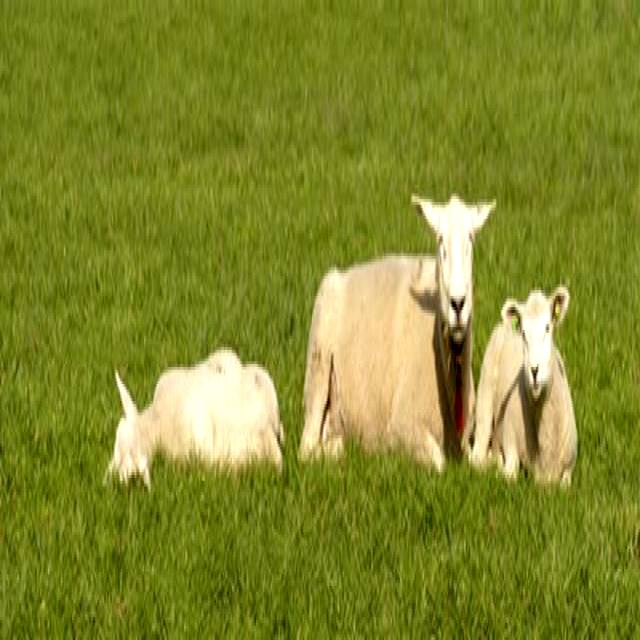sheep: (301, 192, 494, 475), (106, 349, 288, 500), (470, 282, 579, 494)
